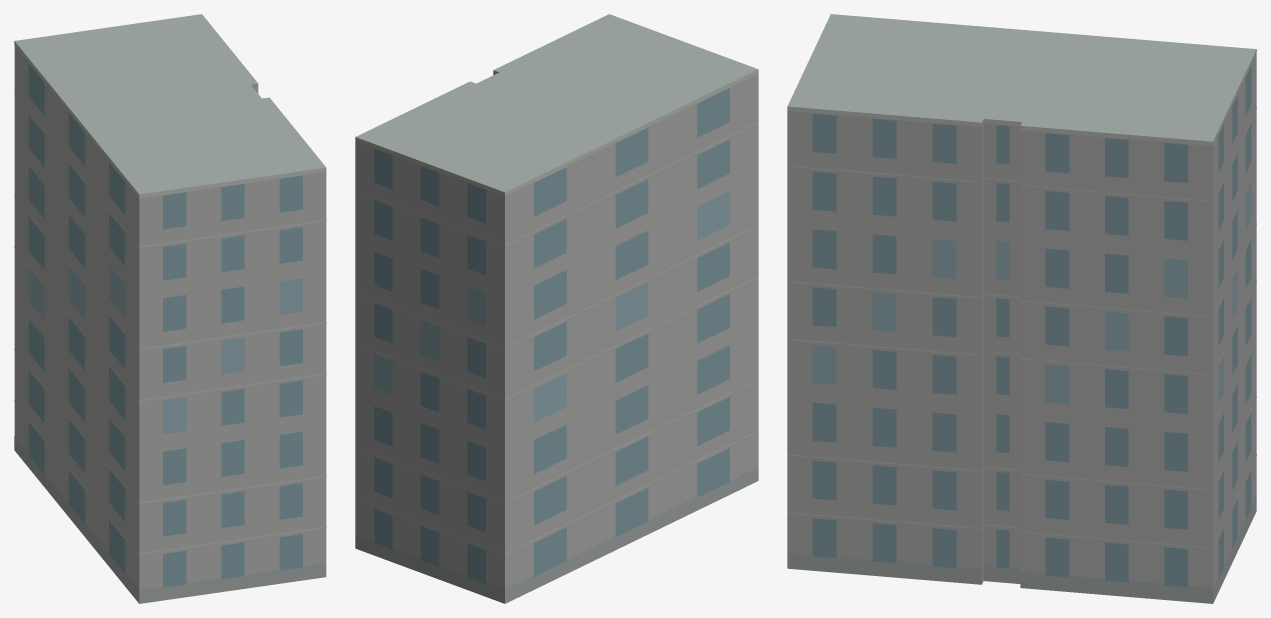
Rendered from survey-upis-32792894.glb.
3 renders of one model, left to right at view 1: azimuth 30°, elevation 25°; view 2: azimuth 150°, elevation 25°; view 3: azimuth 270°, elevation 25°, orthographic. The views are drawn at different scales.
Visible parts, largest first — view 1: survey-upis-32792894.tmp; view 2: survey-upis-32792894.tmp; view 3: survey-upis-32792894.tmp.
Boxes of the visible parts, x1,y1,x2,y2 form: survey-upis-32792894.tmp: (14, 14, 326, 603); survey-upis-32792894.tmp: (355, 14, 758, 603); survey-upis-32792894.tmp: (787, 14, 1256, 603).
Bounding box in the file's own units: 14.49 × 24.4 × 22.48.
